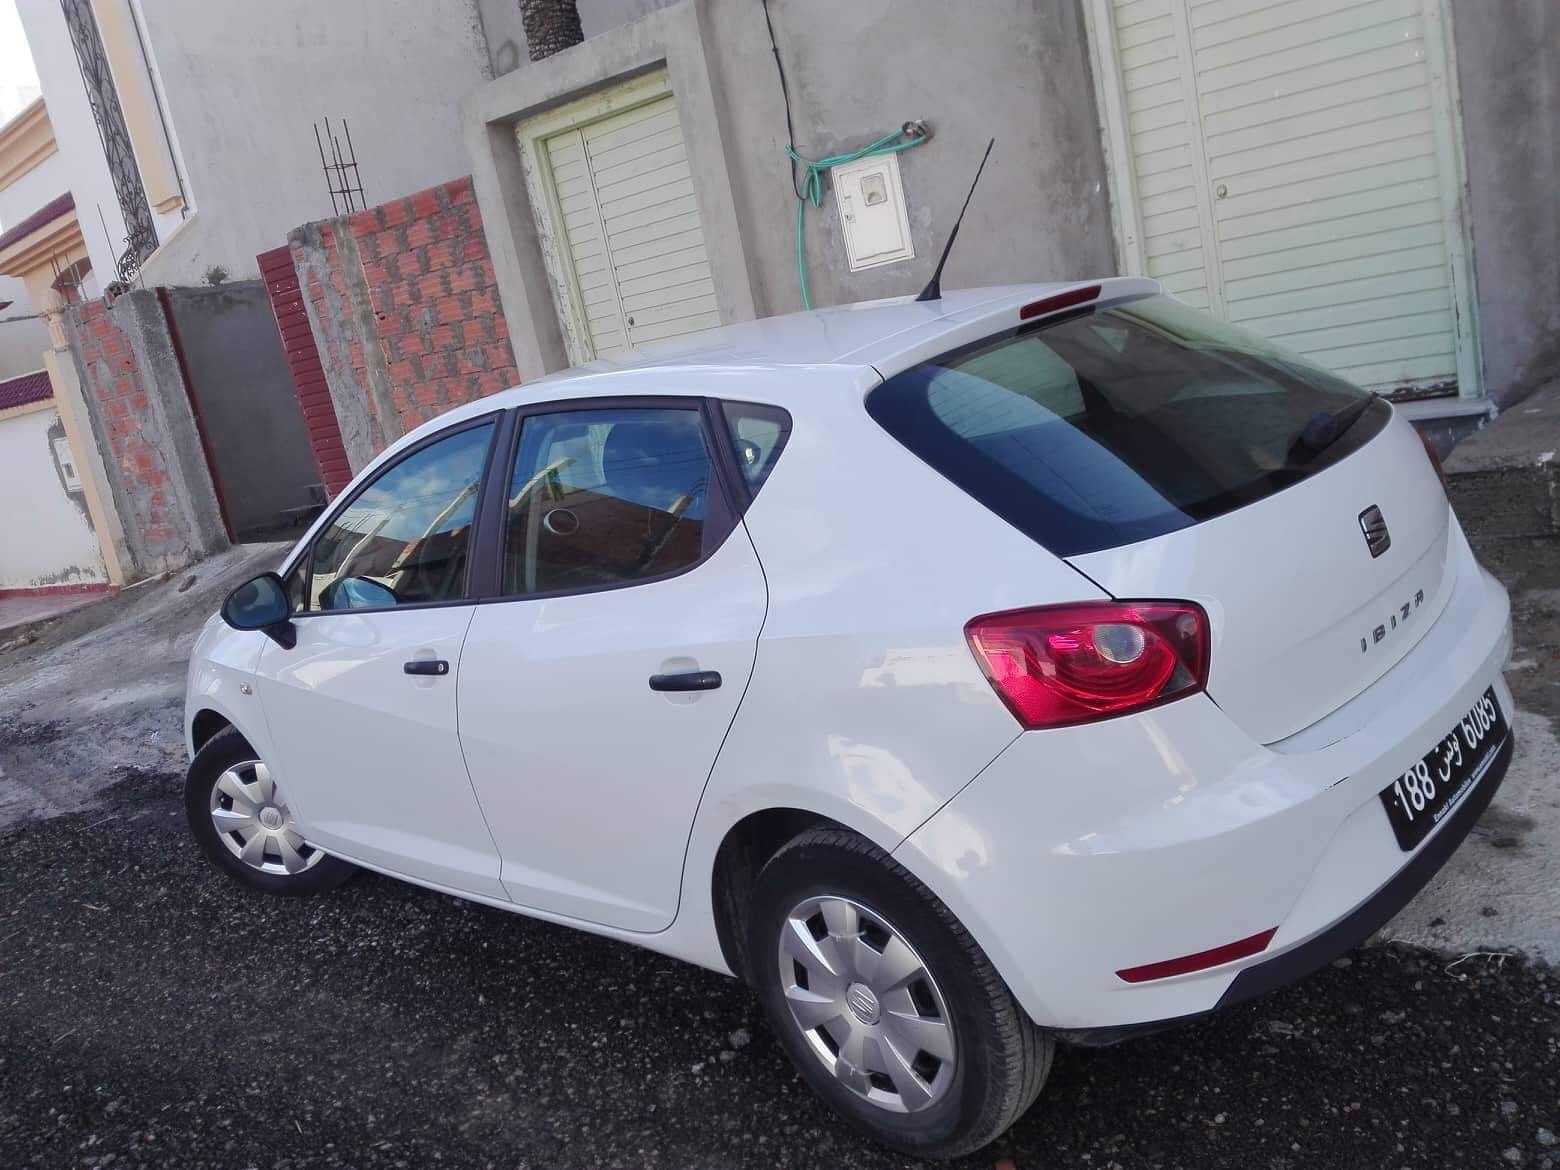LP: (1385, 677, 1507, 853)
